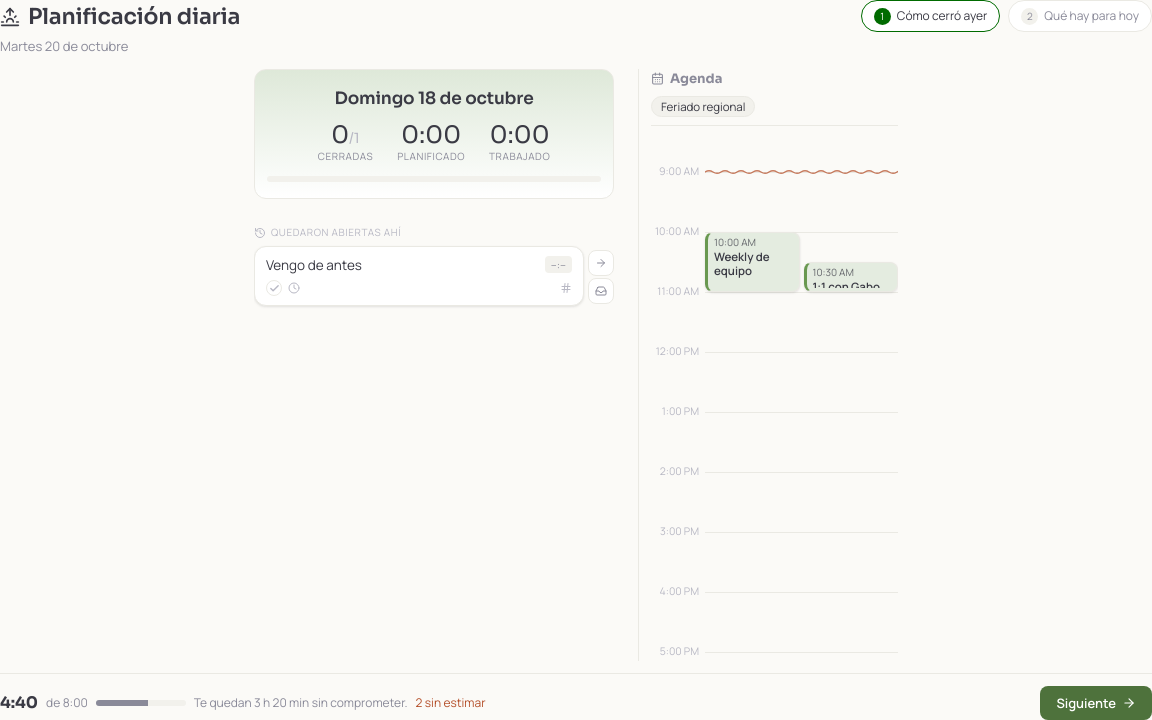
Test: DailyPlanningView › abre el detalle de una tarea del día anterior
(page scrolled)
What coordinates should you click on to do the following:
click the text "Vengo de antes"
I would click on:
 (314, 265)
Its box is [266,256,362,274].
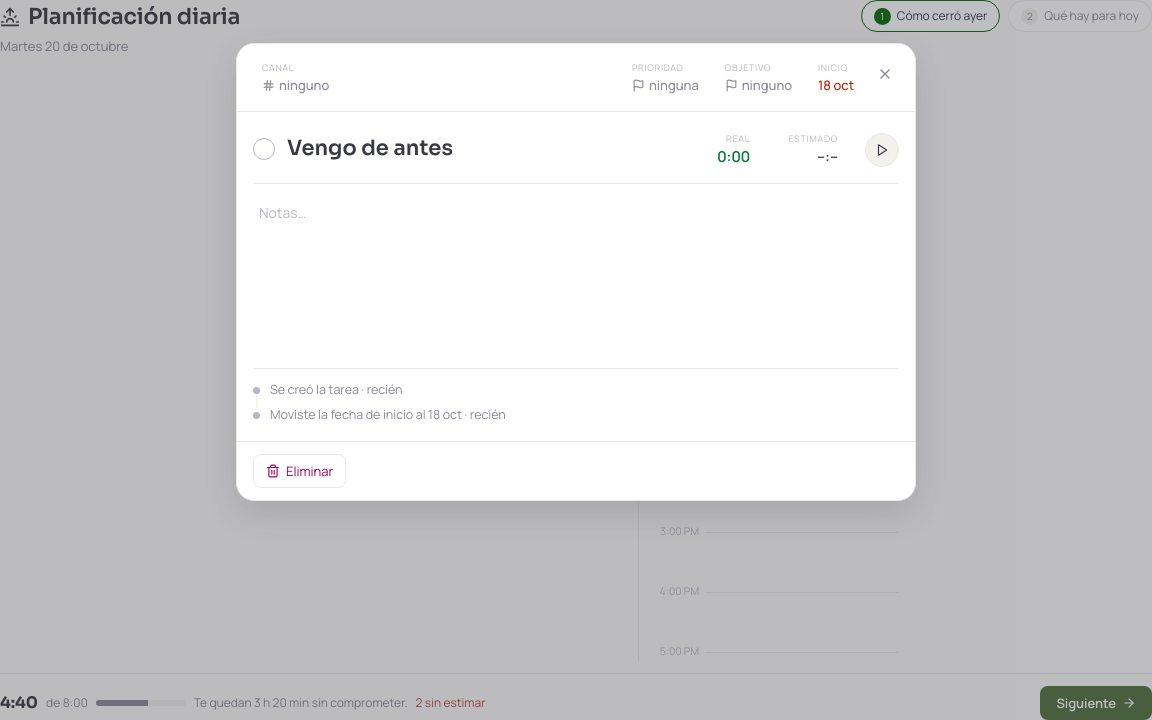
Now the dialog named "Detalle de tarea" is shown, box [236,43,916,501]
